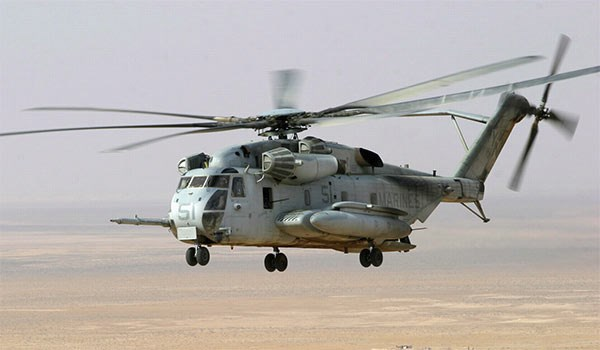MilitaryHelicopter: (148, 79, 540, 276)
